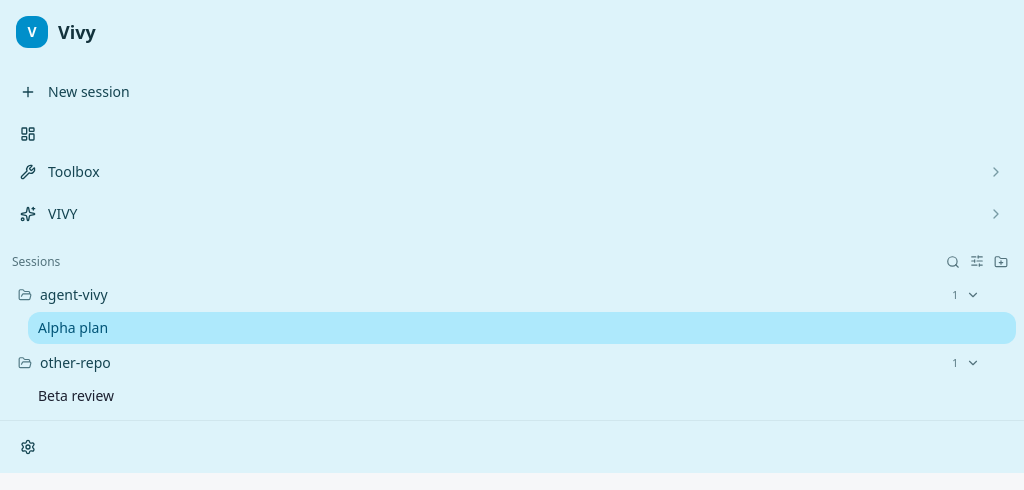
ConversationSidebar session list header › switches to the flat view and remembers it
Click the button named "View options". click: (977, 261)
box: 966,250 -> 988,272
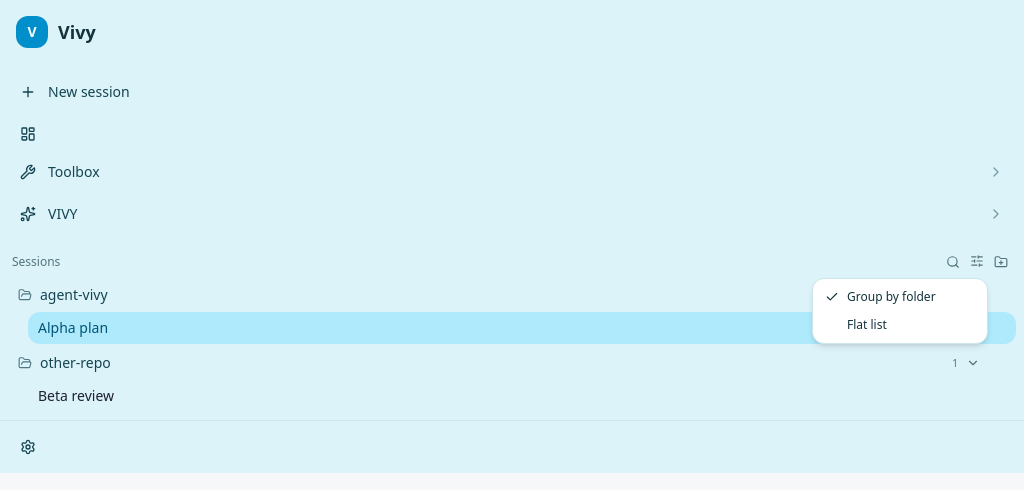
Check: the menu is shown, box 812,278 -> 988,344
Click the menu item "Flat list". click: (900, 325)
box: 817,311 -> 983,339
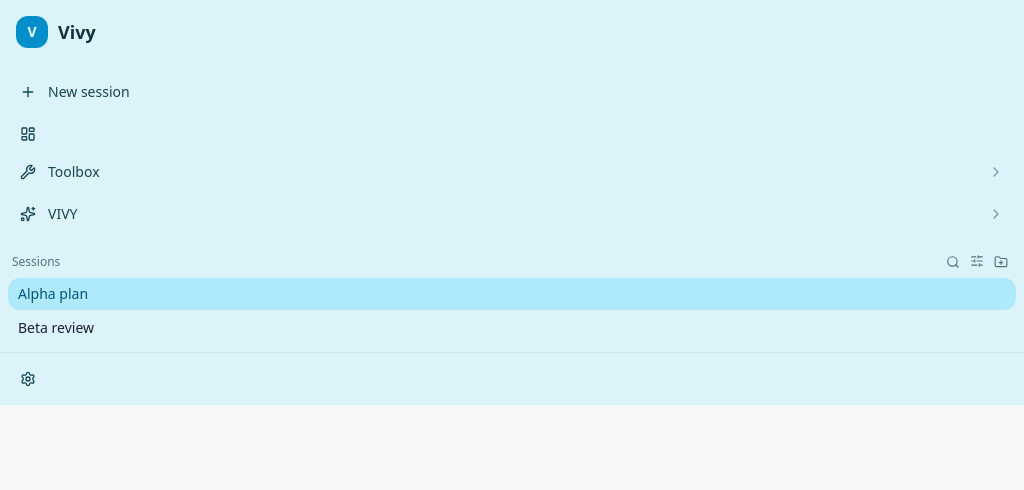
Check: the menu is gone
Check: the text "agent-vivy" is gone
Check: the text "other-repo" is gone
